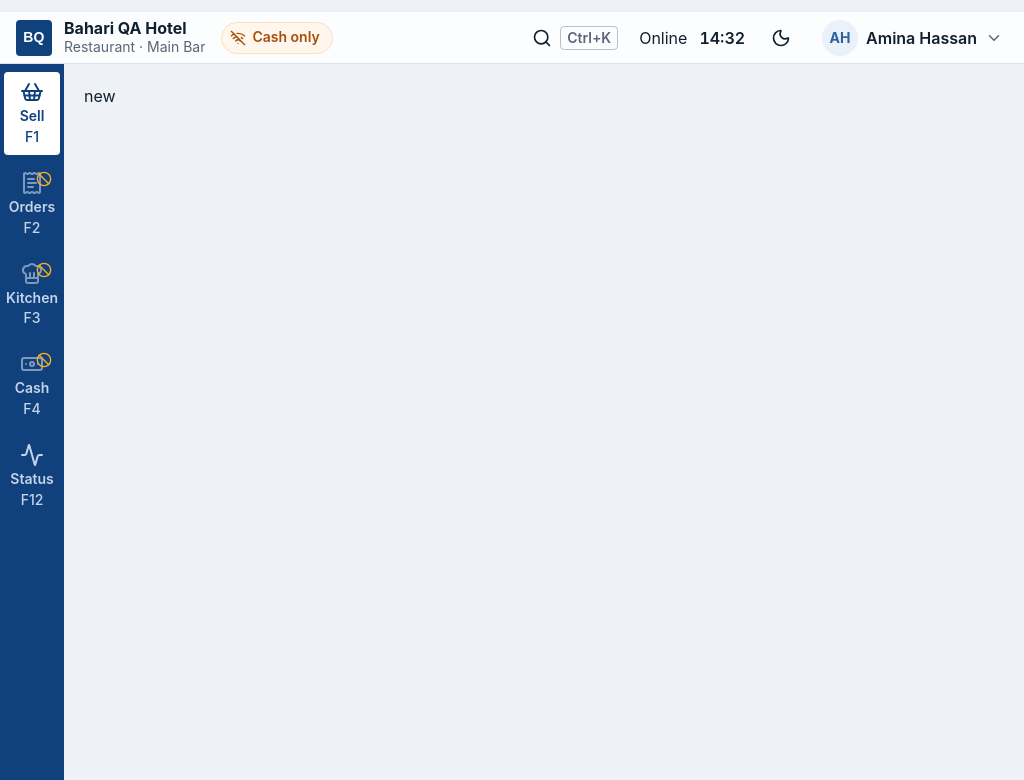
Test: TillShell › working offline keeps closed sections in place and says why instead of moving
Expected: the element with test id "shell-offline-cash" reads "Cash only", [252,28,320,45]
Click the button with test id "nav-orders": (32, 204) [4,163,60,246]
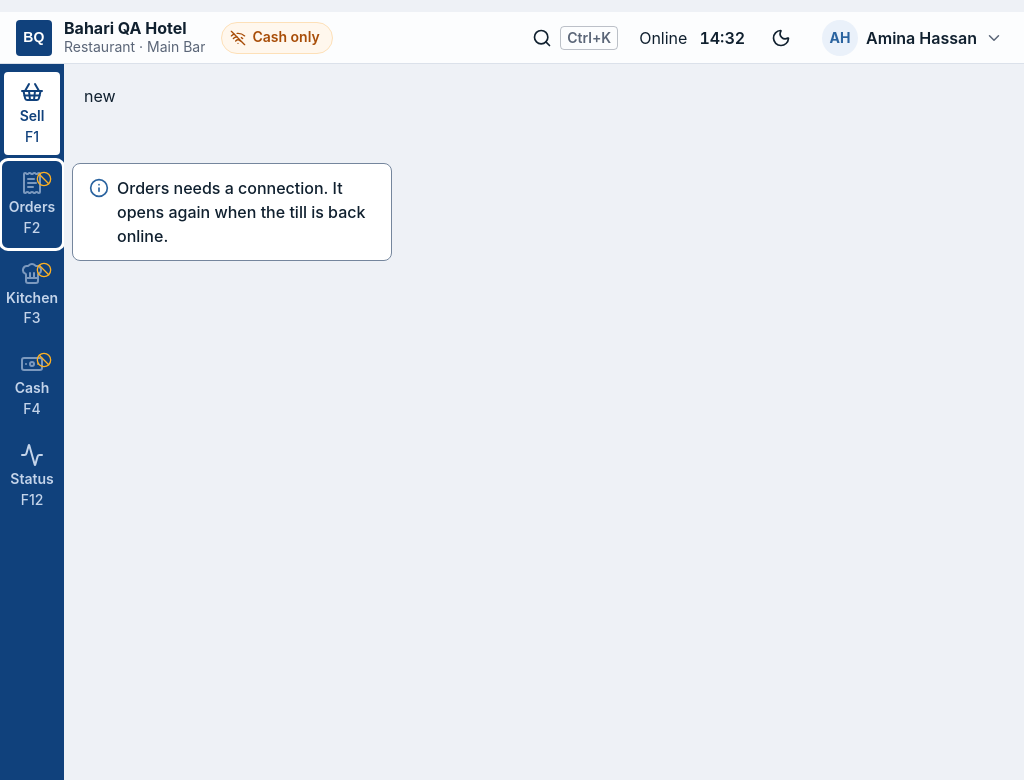
Expected: the text with test id "current-page" reads "new", [84,86,116,106]
Now the message with test id "rail-reason" shows "connection", box [117,178,365,246]
